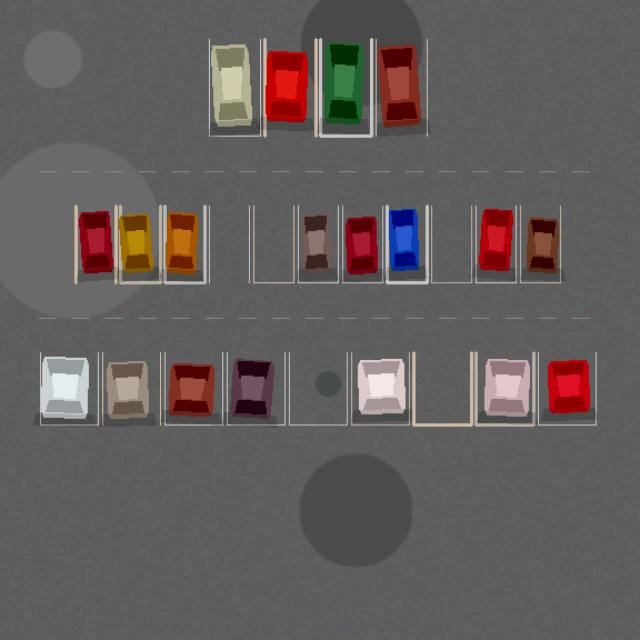space-empty: (289, 352, 347, 424), (413, 352, 471, 424), (209, 206, 249, 282), (253, 206, 293, 282), (431, 206, 471, 282)
space-occupied: (264, 39, 316, 136), (209, 39, 260, 136), (320, 39, 371, 136), (376, 39, 427, 136), (40, 352, 98, 424), (102, 352, 160, 424), (164, 352, 222, 424), (351, 352, 409, 424), (538, 352, 596, 424), (227, 352, 284, 424), (476, 352, 533, 424), (76, 206, 116, 282), (120, 206, 160, 282), (164, 206, 204, 282), (298, 206, 338, 282), (342, 206, 382, 282), (387, 206, 427, 282), (476, 206, 516, 282), (520, 206, 560, 282)
